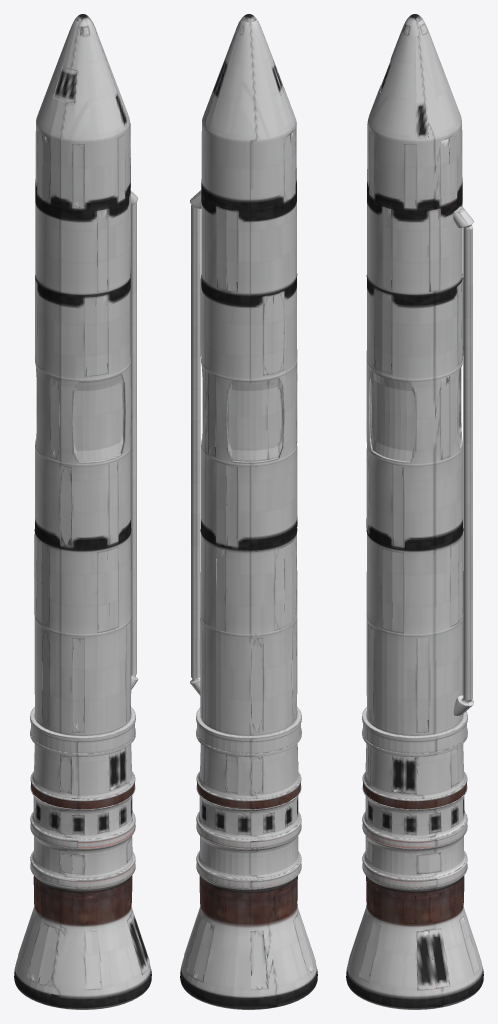
Rendered from p10_motor_derecho.obj.
3 renders of one model, left to right at view 1: azimuth 30°, elevation 25°; view 2: azimuth 150°, elevation 25°; view 3: azimuth 330°, elevation 25°, orthographic.
Visible parts, largest first — view 1: p10_motor_derecho; view 2: p10_motor_derecho; view 3: p10_motor_derecho.
Part boxes in pixels (x1,y1,x2,y2): p10_motor_derecho: [14, 14, 151, 1009]; p10_motor_derecho: [180, 14, 317, 1009]; p10_motor_derecho: [346, 14, 483, 1009].
Bounding box in the file's own units: 3.94 × 30.51 × 3.94.
Materials: 1 (1 with a texture image).
